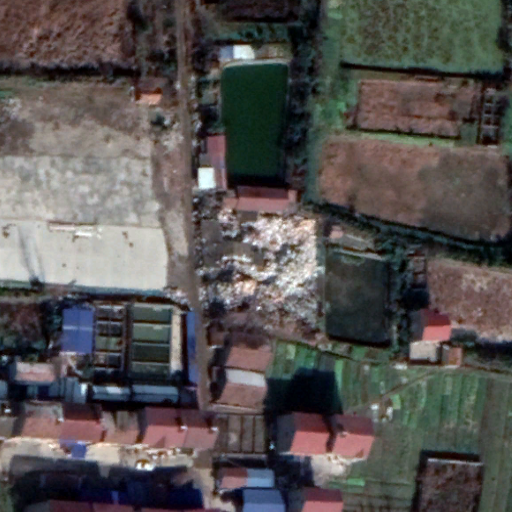msw: (198, 213, 320, 325)
